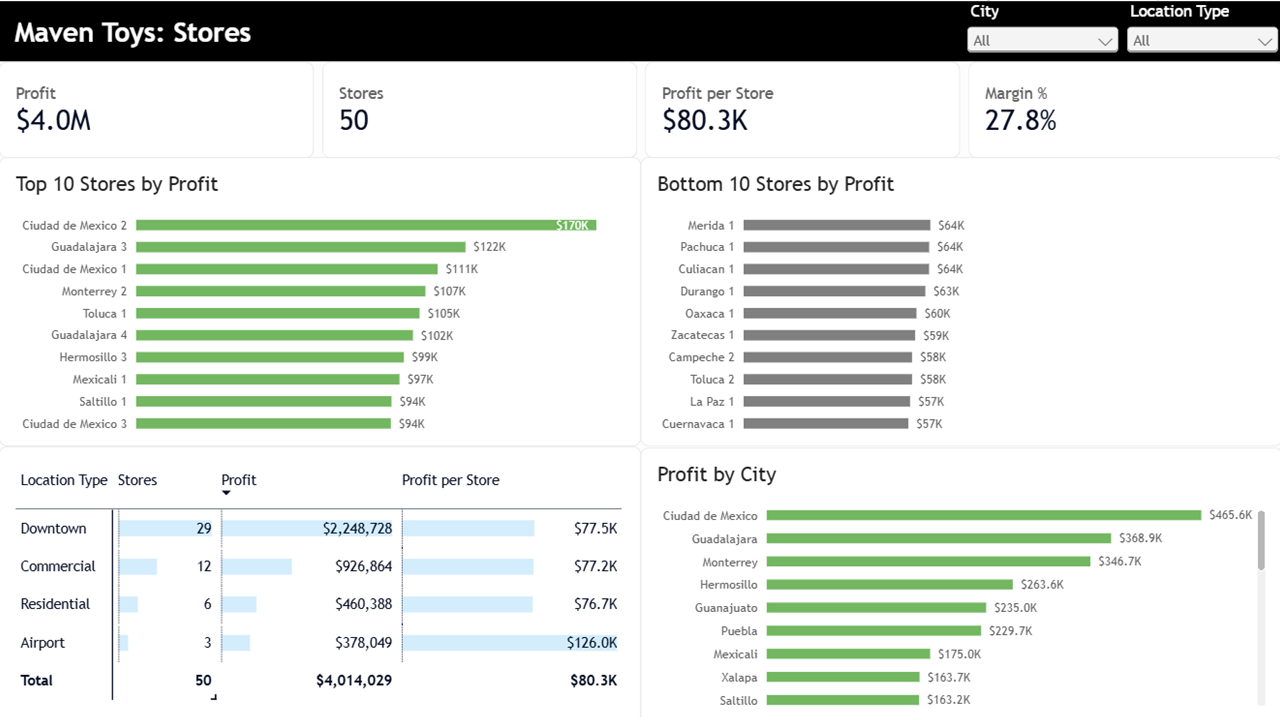

Layout of this report page (visuals, bound fields, positions):
{"tool":"powerbi","page":{"name":"Stores","canvas":[1280,720],"ordinal":1},"visuals":[{"type":"shape","box":[0,0,1280,60],"z":0,"group":"g1"},{"type":"cardVisual","fields":{"Data":["_measures.Profit","_measures.Stores","_measures.Profit per Store","_measures.Margin %"]},"box":[0,60,1280,96],"z":0},{"type":"group","id":"g1","title":"Group 1","box":[0,0,1280,64],"z":1000},{"type":"textbox","box":[16,16,624,32],"z":1000,"group":"g1"},{"type":"slicer","fields":{"Values":["stores.Store_City"]},"box":[960,0,160,64],"z":2000,"group":"g1"},{"type":"clusteredBarChart","title":"Top 10 Stores by Profit","fields":{"Category":["stores.Store_Name"],"Y":["_measures.Profit"]},"box":[0,156,640,288],"z":2000},{"type":"slicer","fields":{"Values":["stores.Store_Location"]},"box":[1120,0,160,64],"z":3000,"group":"g1"},{"type":"clusteredBarChart","title":"Bottom 10 Stores by Profit","fields":{"Category":["stores.Store_Name"],"Y":["_measures.Profit"]},"box":[640,156,640,288],"z":3000},{"type":"pivotTable","title":"Profit by Location Type: Total and Per Store","fields":{"Rows":["stores.Store_Location"],"Values":["select","_measures.Stores","_measures.Profit","_measures.Profit per Store"]},"box":[0,444,640,275],"z":4000},{"type":"clusteredBarChart","title":"Profit by City","fields":{"Category":["stores.Store_City"],"Y":["_measures.Profit"]},"box":[640,445,640,275],"z":5000}]}

Visuals, with their boxes in screenshot pixels (x1, y1, x2, y2), scaled from the page's 1280x720 canvas onto the 1280x720 screenshot:
shape: BBox(0, 0, 1279, 60)
cardVisual - _measures.Profit x _measures.Stores: BBox(0, 60, 1279, 156)
"Group 1" group: BBox(0, 0, 1279, 64)
textbox: BBox(16, 16, 640, 48)
slicer - stores.Store_City: BBox(960, 0, 1120, 64)
"Top 10 Stores by Profit" clusteredBarChart: BBox(0, 156, 640, 444)
slicer - stores.Store_Location: BBox(1120, 0, 1279, 64)
"Bottom 10 Stores by Profit" clusteredBarChart: BBox(640, 156, 1279, 444)
"Profit by Location Type: Total and Per Store" pivotTable: BBox(0, 444, 640, 719)
"Profit by City" clusteredBarChart: BBox(640, 445, 1279, 719)
